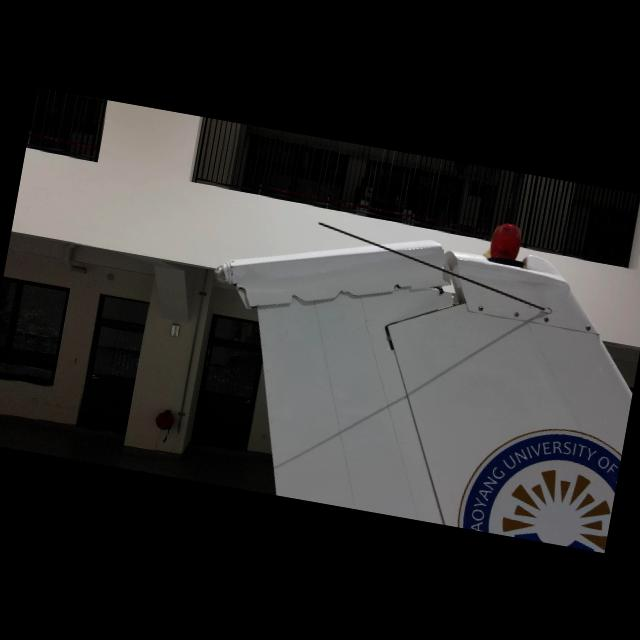Missing Fastener: (439, 266, 447, 272), (449, 294, 455, 299)
